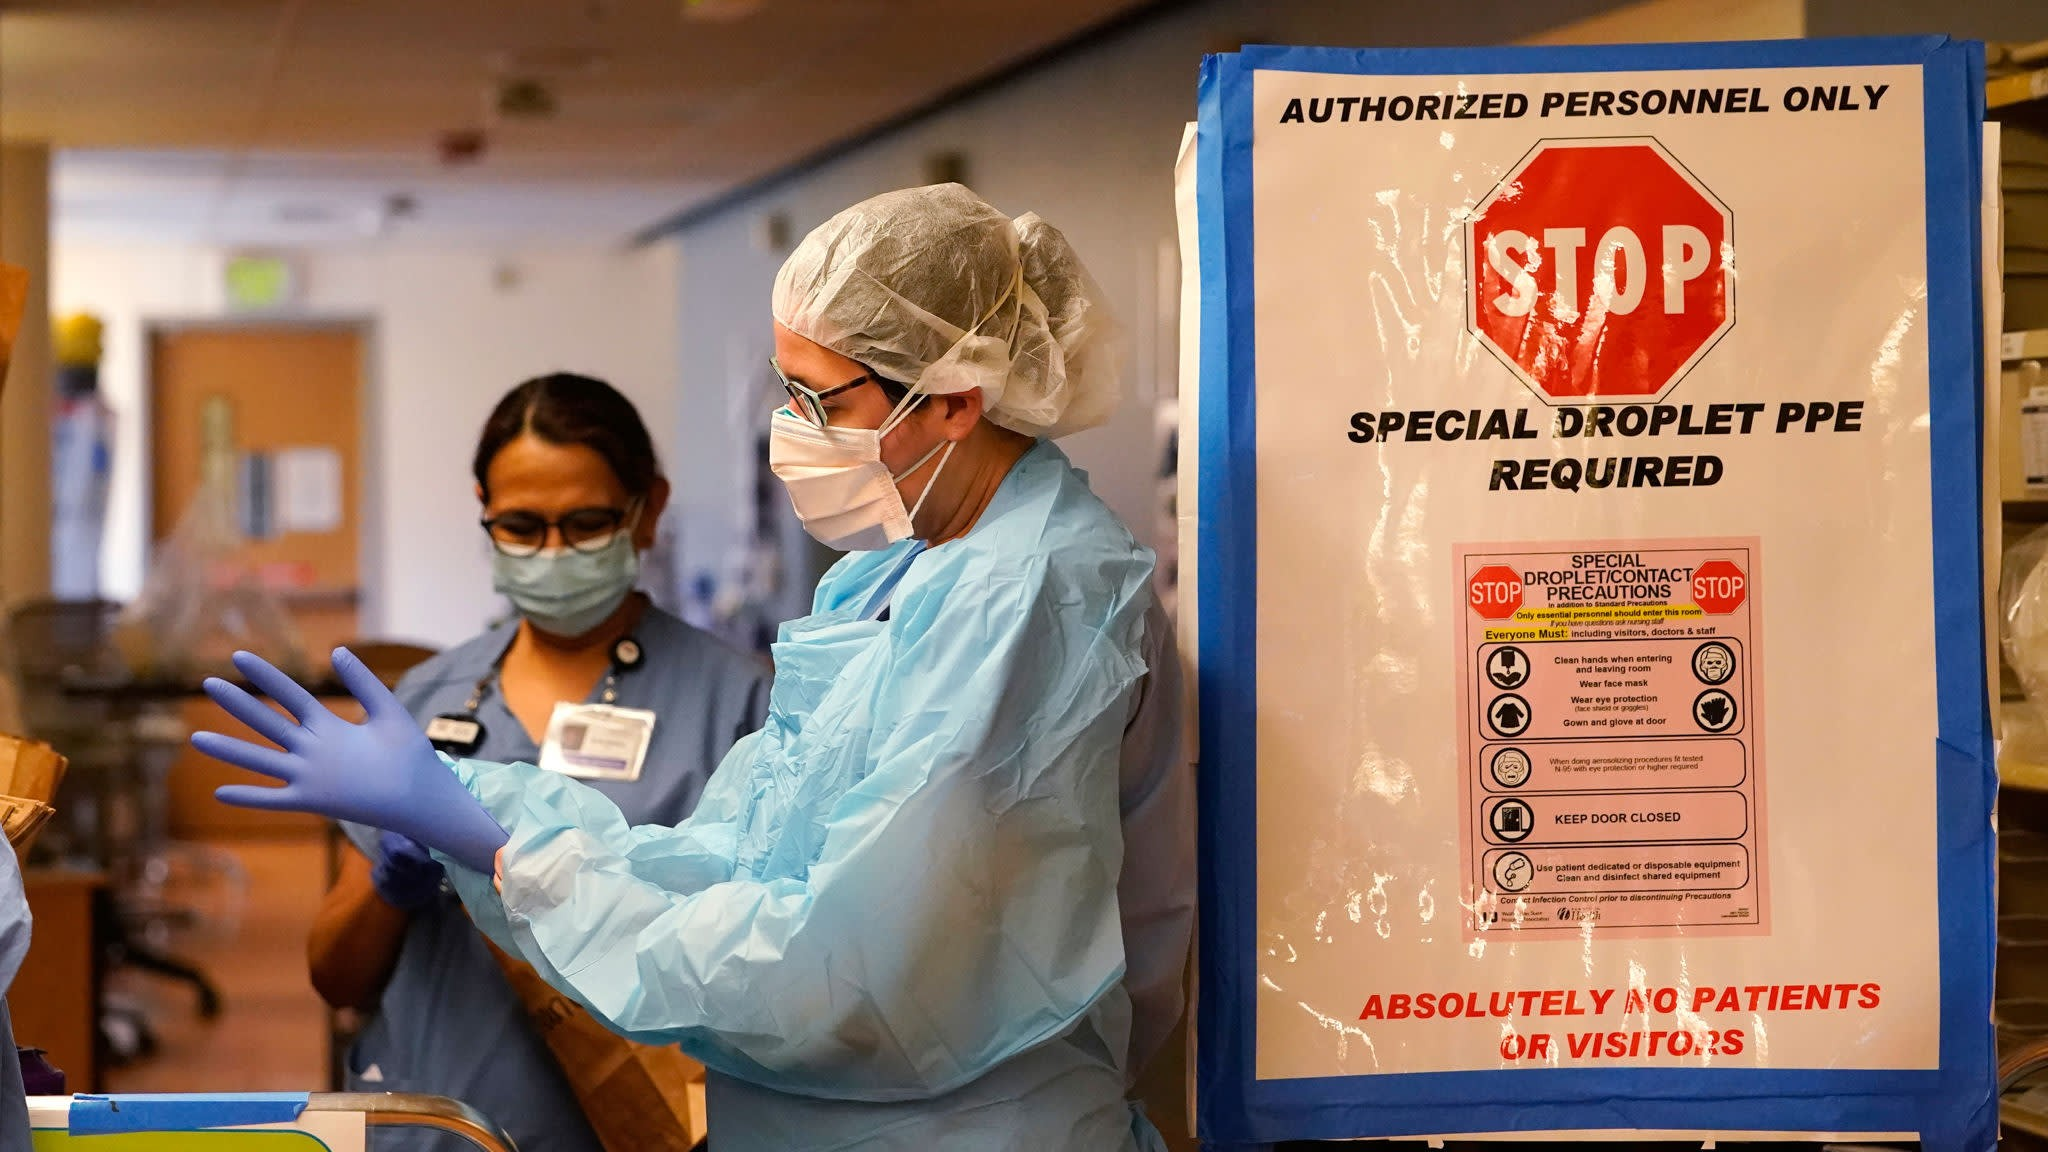Coverall: (497, 451, 1157, 1149)
Gloves: (190, 640, 510, 871)
with_mask: (766, 358, 924, 558), (475, 507, 632, 649)
